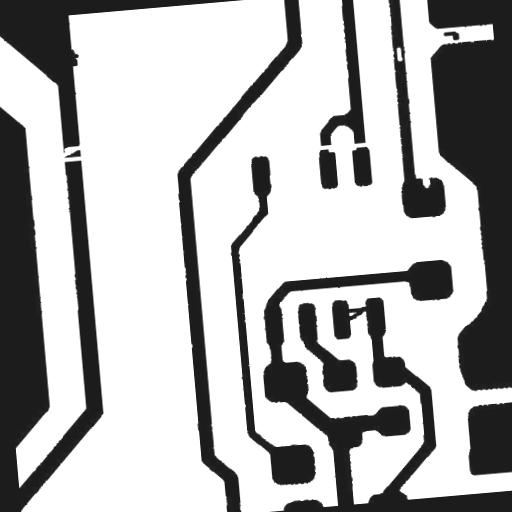copper: (435, 22, 467, 49)
mousebite: (413, 166, 438, 196)
open: (306, 133, 378, 159), (50, 138, 92, 170)
pin-hole: (388, 38, 410, 69)
short: (333, 298, 382, 330)
spur: (58, 40, 88, 74)
